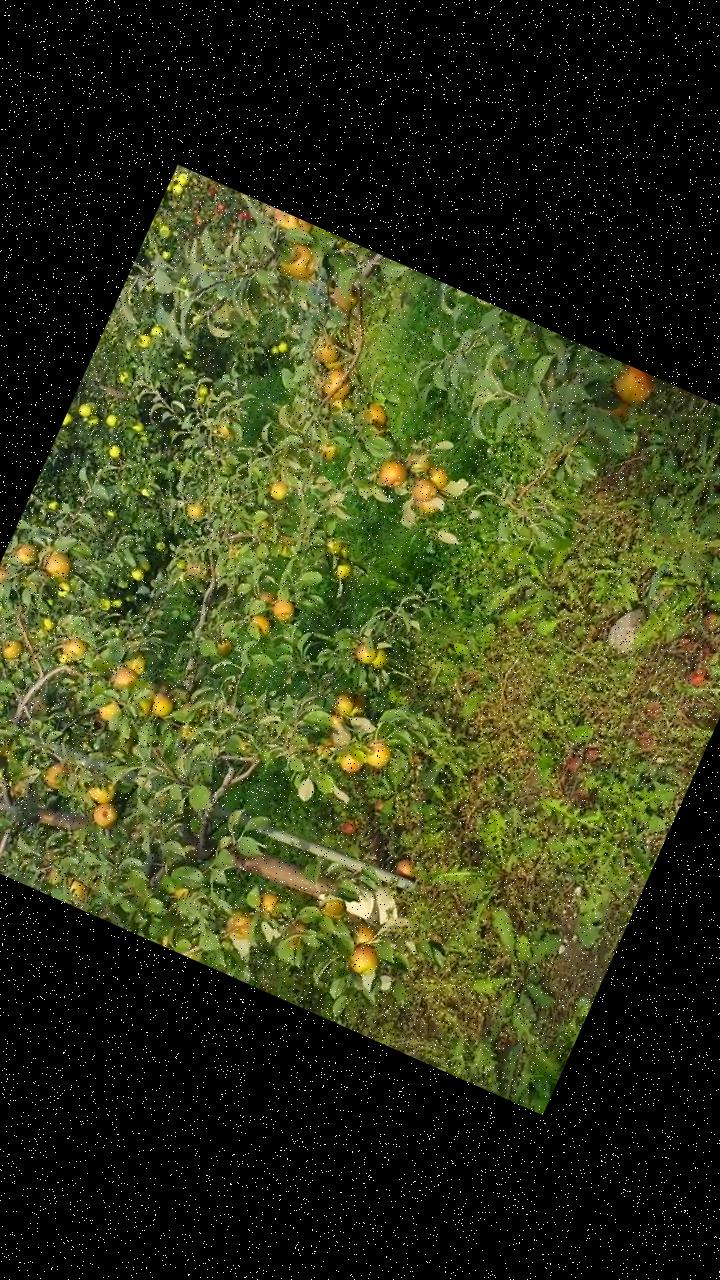Apple: (605, 362, 657, 412), (343, 940, 383, 981), (322, 278, 362, 318), (264, 208, 312, 240), (280, 244, 320, 282), (395, 446, 436, 482), (591, 390, 632, 426), (371, 457, 408, 494), (318, 365, 353, 402), (358, 739, 393, 776), (219, 905, 254, 940), (317, 892, 352, 926), (82, 778, 116, 811), (358, 398, 391, 432), (88, 798, 120, 832), (305, 336, 338, 368), (346, 919, 378, 951), (106, 666, 140, 696), (320, 390, 354, 420), (412, 491, 444, 522), (145, 690, 177, 720), (43, 552, 72, 582), (336, 750, 366, 779), (408, 475, 439, 503), (61, 875, 90, 904), (350, 638, 378, 668), (127, 694, 154, 724), (0, 635, 26, 666), (268, 596, 296, 624), (120, 651, 149, 678), (330, 554, 356, 584), (40, 760, 66, 789), (179, 498, 207, 524), (244, 614, 272, 640), (253, 891, 278, 920), (344, 691, 369, 720), (11, 540, 38, 566), (210, 632, 235, 659), (283, 920, 305, 950), (61, 636, 87, 661), (254, 585, 280, 610), (331, 691, 356, 717), (93, 698, 118, 723), (368, 646, 390, 674), (214, 414, 236, 439), (425, 466, 450, 488), (324, 711, 347, 734), (264, 478, 286, 502), (173, 720, 195, 744), (317, 440, 338, 463), (168, 883, 192, 903), (324, 538, 342, 556), (0, 569, 6, 592)
